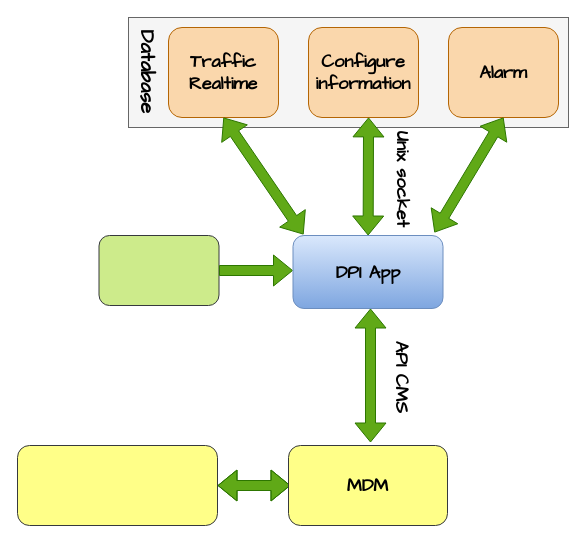
Image size: 586x543. Some labels were removed from this diagram. The shapes that lost their labels are listed below. From the top down, each one's box as (x1, y1, x2, y2) in pixels, then its label:
(98, 234, 219, 306): Capture packet
(16, 444, 218, 526): Remote Control Client
